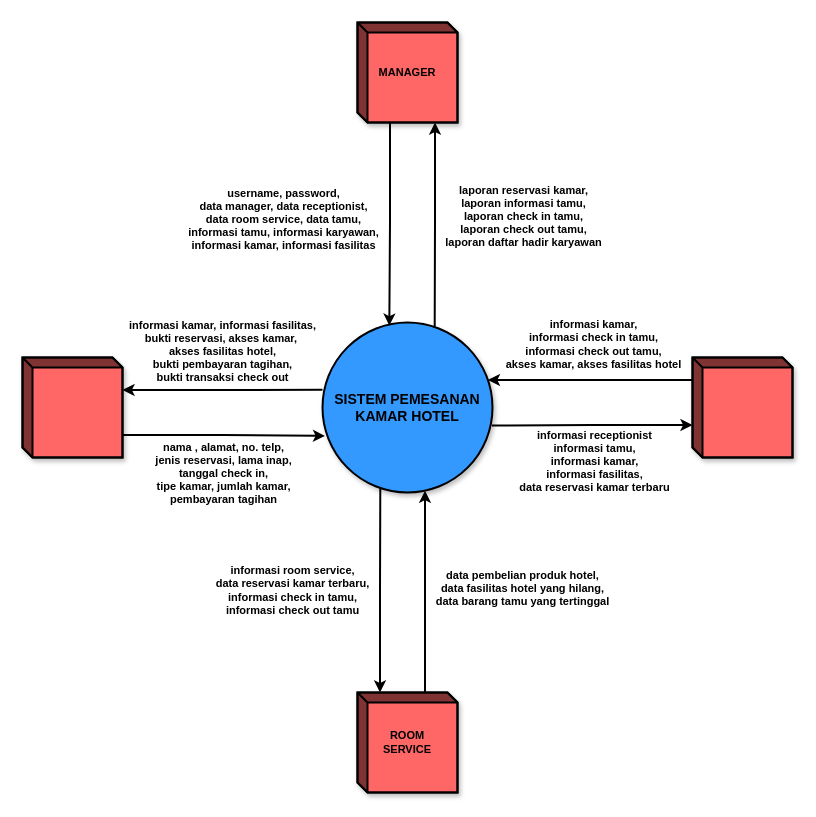
Some shapes in this 816 by 817 pixel diagram are drawn without their labels. The shapes that lost their labels are listed below. From the top down, each one's centre as x and y in pixels, then its label:
At pixel 73 408: "TAMU".
At pixel 743 408: "RECEPTIONIST".
